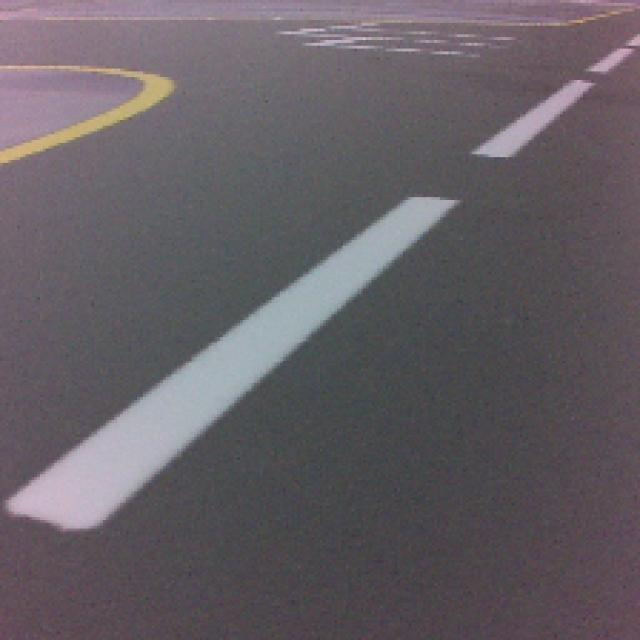Guard rail: (8, 193, 459, 534)
